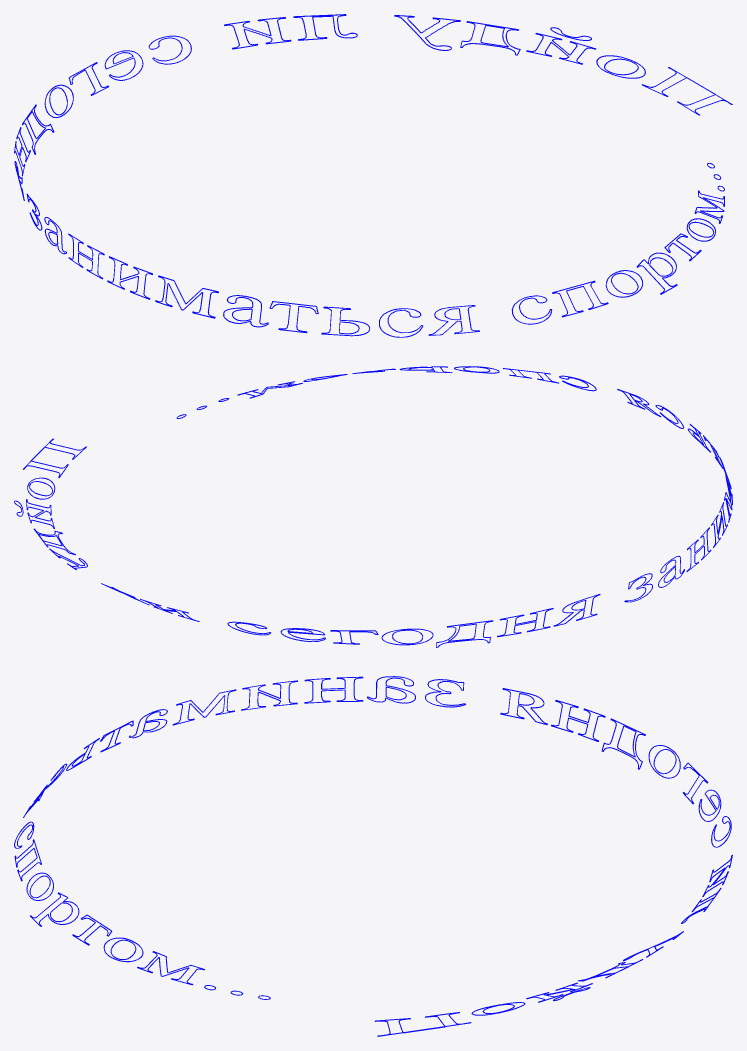
3 views of the same model, one above another, from view 1: azimuth 30°, elevation 25°; view 2: azimuth 150°, elevation 25°; view 3: azimuth 270°, elevation 25° (orthographic). The views are drawn at different scales.
Size of the model in its own units: 2.17 by 0.1331 by 2.06.
